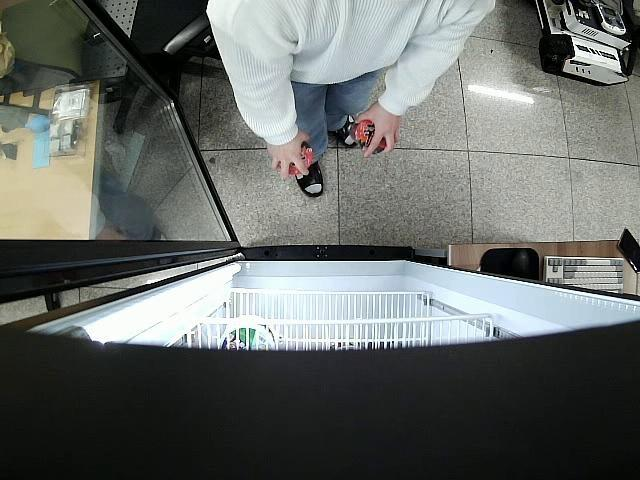02_shinRamen_S: (276, 140, 314, 177), (350, 120, 389, 154)
